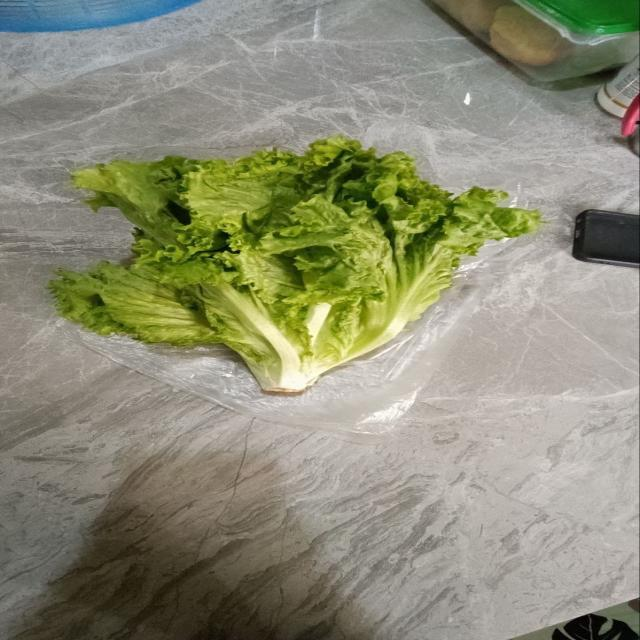Lettuce-Ready-to-Harvest: (50, 132, 526, 391)
